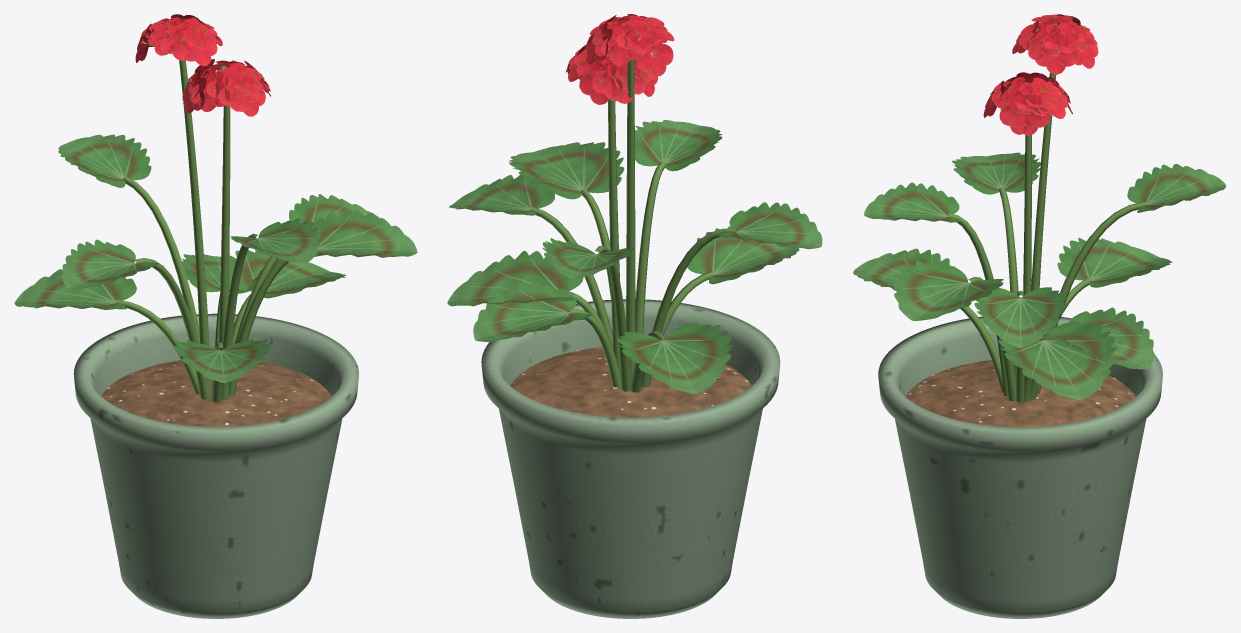
File: pelargonium.glb
3 renders of one model, left to right at view 1: azimuth 30°, elevation 25°; view 2: azimuth 150°, elevation 25°; view 3: azimuth 270°, elevation 25°, orthographic. The views are drawn at different scales.
Parts seen in each view (by area): view 1: piece-0, piece-135, piece-1, piece-7, piece-8, piece-3, piece-6, piece-9, piece-10, piece-4, piece-2, piece-5; view 2: piece-0, piece-135, piece-1, piece-3, piece-7, piece-5, piece-10, piece-4, piece-6, piece-9, piece-2, piece-8 (+3 smaller); view 3: piece-0, piece-1, piece-135, piece-10, piece-7, piece-2, piece-3, piece-8, piece-5, piece-4, piece-6, piece-9 (+1 smaller).
Part boxes in pixels (left/top/right/bottom): piece-0: left=73, top=313, right=358, bottom=618; piece-135: left=115, top=40, right=289, bottom=402; piece-1: left=101, top=360, right=331, bottom=426; piece-7: left=312, top=209, right=417, bottom=257; piece-8: left=58, top=134, right=151, bottom=187; piece-3: left=14, top=269, right=136, bottom=309; piece-6: left=62, top=239, right=158, bottom=288; piece-9: left=173, top=339, right=270, bottom=383; piece-10: left=229, top=249, right=346, bottom=298; piece-4: left=230, top=218, right=320, bottom=263; piece-2: left=289, top=194, right=379, bottom=223; piece-5: left=181, top=254, right=279, bottom=293; piece-0: left=481, top=299, right=780, bottom=618; piece-135: left=530, top=36, right=735, bottom=392; piece-1: left=510, top=347, right=751, bottom=417; piece-3: left=617, top=322, right=732, bottom=393; piece-7: left=509, top=142, right=624, bottom=199; piece-5: left=473, top=281, right=592, bottom=341; piece-10: left=447, top=250, right=583, bottom=306; piece-4: left=635, top=120, right=722, bottom=171; piece-6: left=716, top=202, right=822, bottom=249; piece-9: left=687, top=226, right=799, bottom=284; piece-2: left=449, top=174, right=554, bottom=215; piece-8: left=542, top=238, right=634, bottom=278; piece-0: left=878, top=316, right=1162, bottom=618; piece-1: left=905, top=360, right=1135, bottom=427; piece-135: left=948, top=21, right=1145, bottom=402; piece-10: left=998, top=321, right=1116, bottom=400; piece-7: left=893, top=260, right=1003, bottom=320; piece-2: left=974, top=287, right=1066, bottom=347; piece-3: left=1057, top=236, right=1172, bottom=287; piece-8: left=1127, top=164, right=1226, bottom=212; piece-5: left=1045, top=307, right=1154, bottom=369; piece-4: left=864, top=182, right=962, bottom=222; piece-6: left=952, top=152, right=1040, bottom=194; piece-9: left=853, top=248, right=954, bottom=290.
Size of the model in its own units: 0.2226 by 0.3505 by 0.2159.
8 materials, 5 textured.
